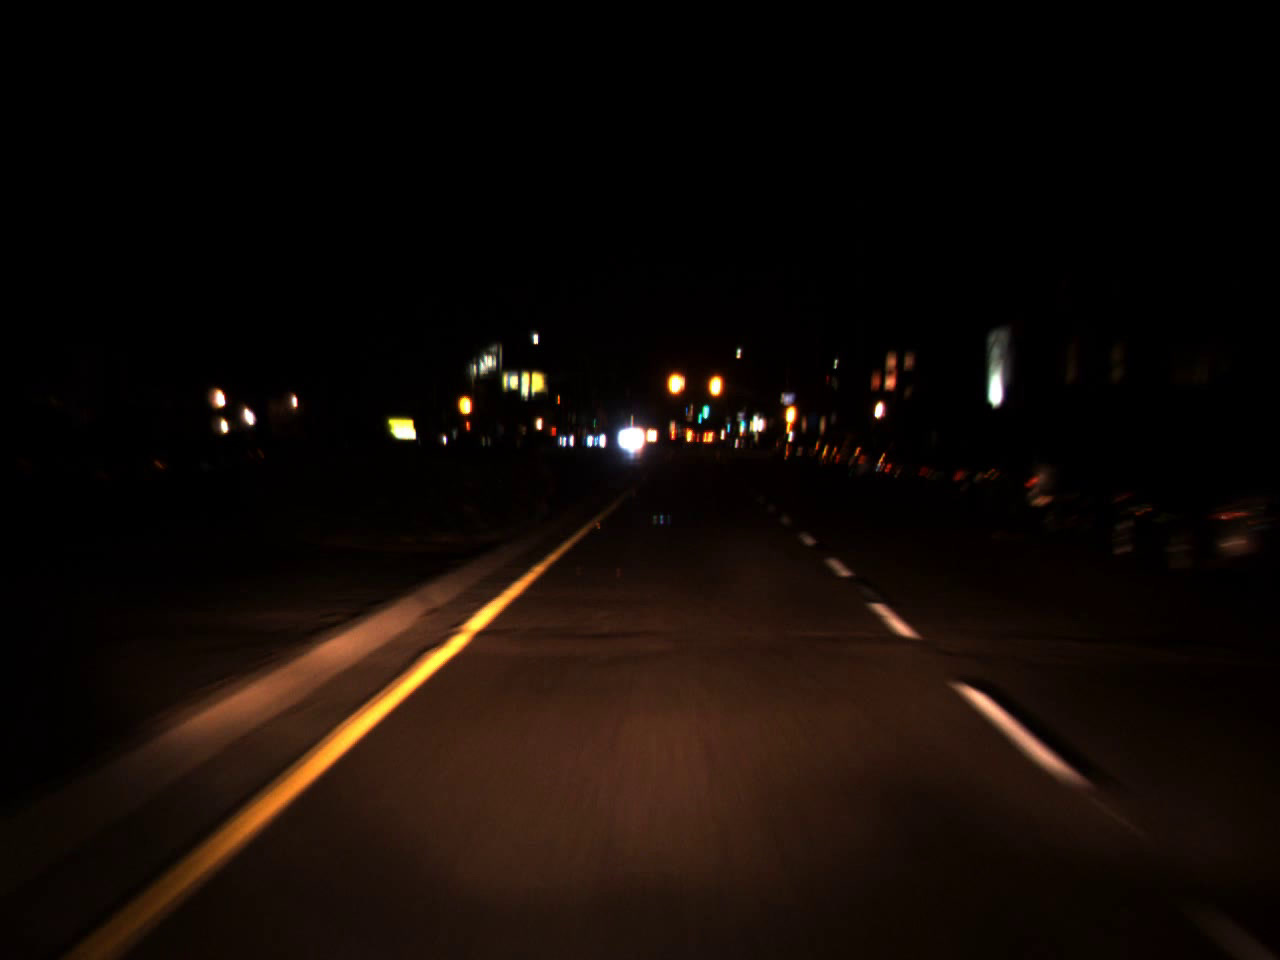go: (700, 392, 709, 419), (725, 414, 732, 435), (738, 411, 745, 429), (590, 411, 597, 426), (696, 406, 703, 421)
warning: (664, 358, 688, 408), (705, 360, 724, 410), (456, 380, 474, 427), (782, 394, 798, 431)
